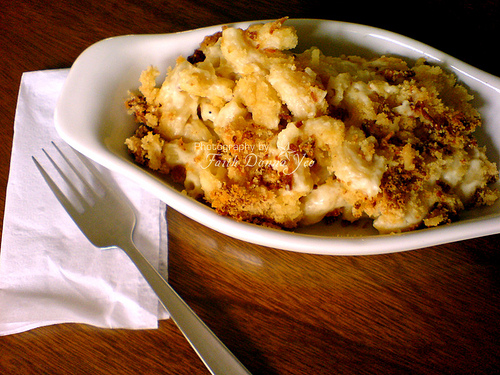macncheese: (120, 17, 498, 229)
